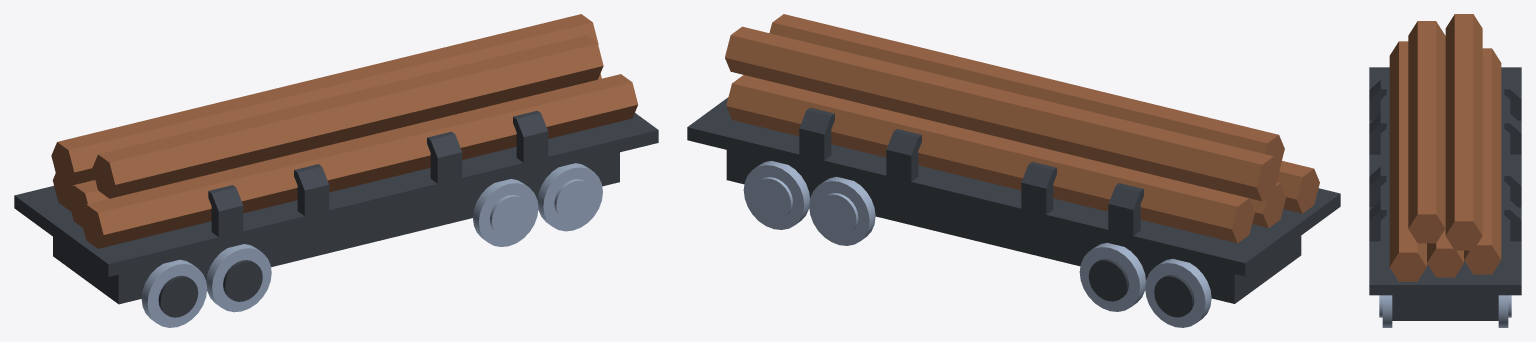
Rendered from trainWagonFlat.fbx.
The picture shows the model from 3 angles, left to right: view 1: azimuth 30°, elevation 25°; view 2: azimuth 150°, elevation 25°; view 3: azimuth 270°, elevation 25°; orthographic projection. The views are drawn at different scales.
Parts seen in each view (by area): view 1: log (×4), trainWagonFlat, wheel (×2); view 2: log (×5), trainWagonFlat, wheel (×2); view 3: log (×5), trainWagonFlat, wheel.
Boxes of the visible parts, x1,y1,x2,y2 form: log (×4): (51, 14, 638, 248); trainWagonFlat: (14, 110, 658, 304); wheel (×2): (141, 163, 602, 327); log (×5): (725, 14, 1319, 243); trainWagonFlat: (687, 97, 1340, 303); wheel (×2): (743, 161, 1211, 327); log (×5): (1389, 14, 1501, 281); trainWagonFlat: (1369, 67, 1521, 320); wheel: (1379, 295, 1511, 327).
Size of the model in its own units: 4.48 by 1.25 by 1.33.
